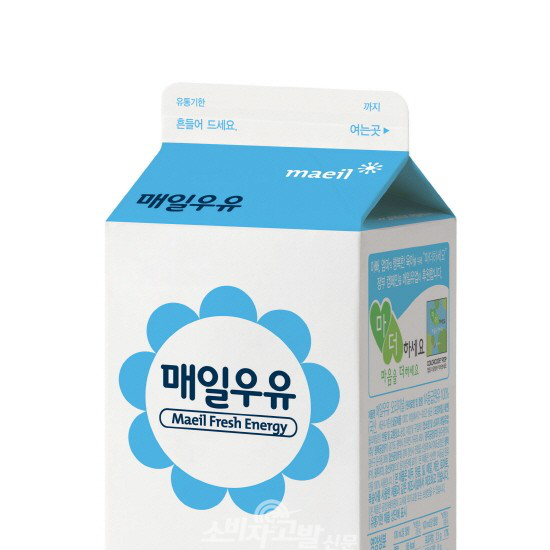milk: (104, 82, 457, 550)
